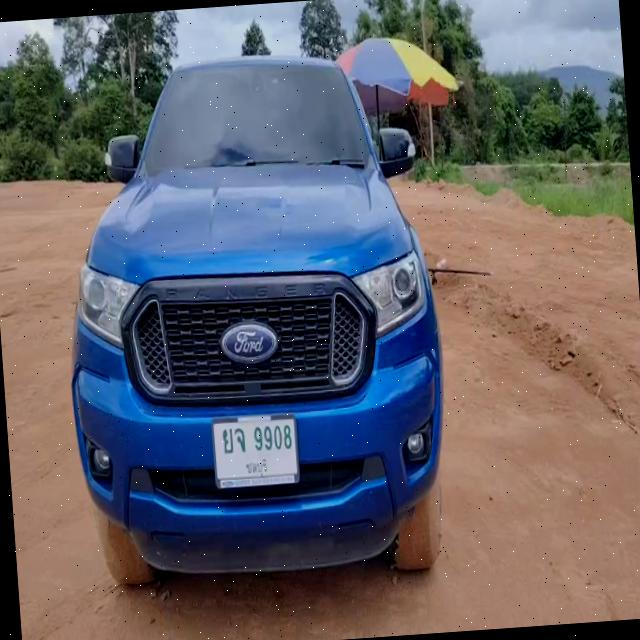Digit: (252, 421, 293, 453)
Licenseplate: (211, 412, 300, 488)
Provincename: (244, 458, 268, 478)
Thaichar: (221, 426, 246, 454)
